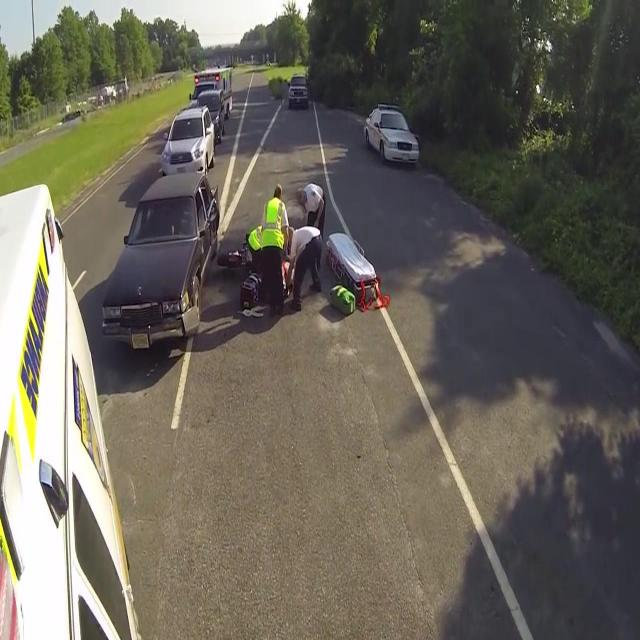Reflective-Jacket: (248, 194, 292, 256)
Safety-Helmet: (299, 176, 329, 221), (270, 177, 288, 202)
